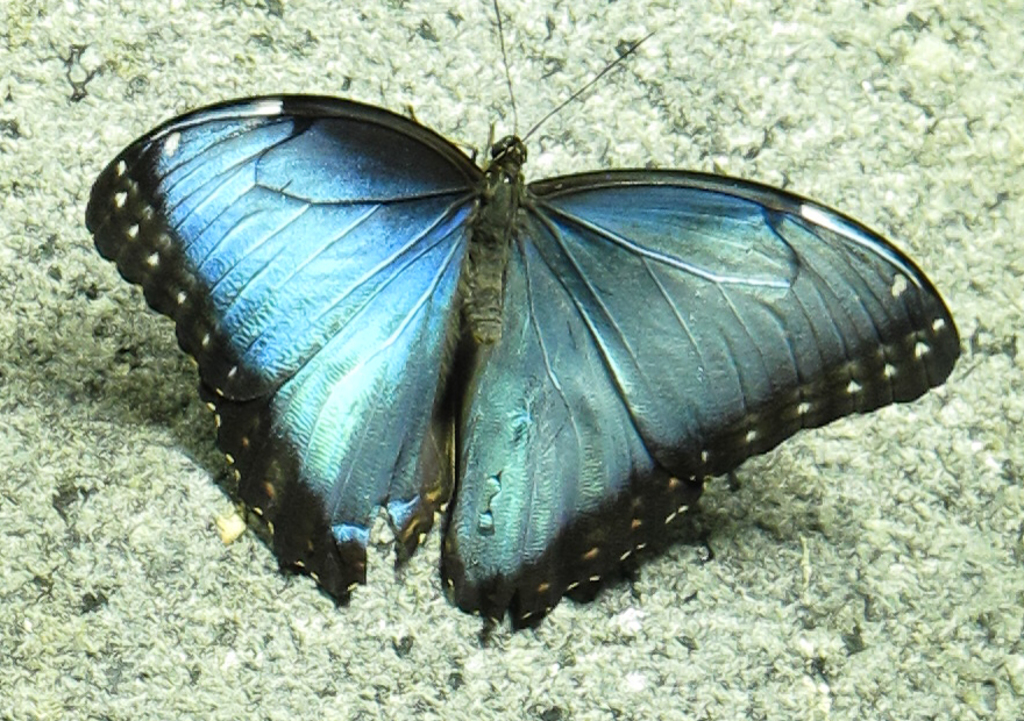Butterfly: (76, 68, 971, 611)
